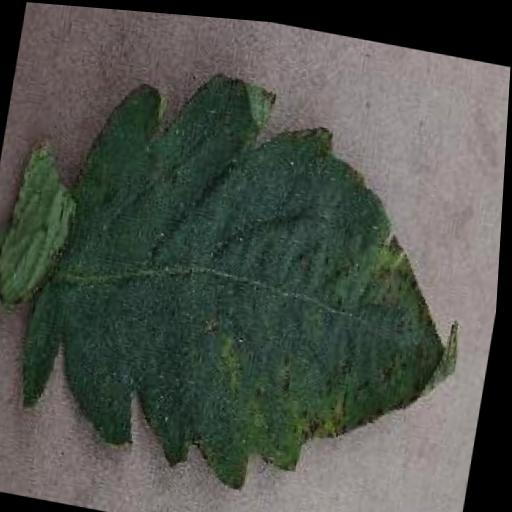Bacterial Spot: (0, 41, 507, 512)
